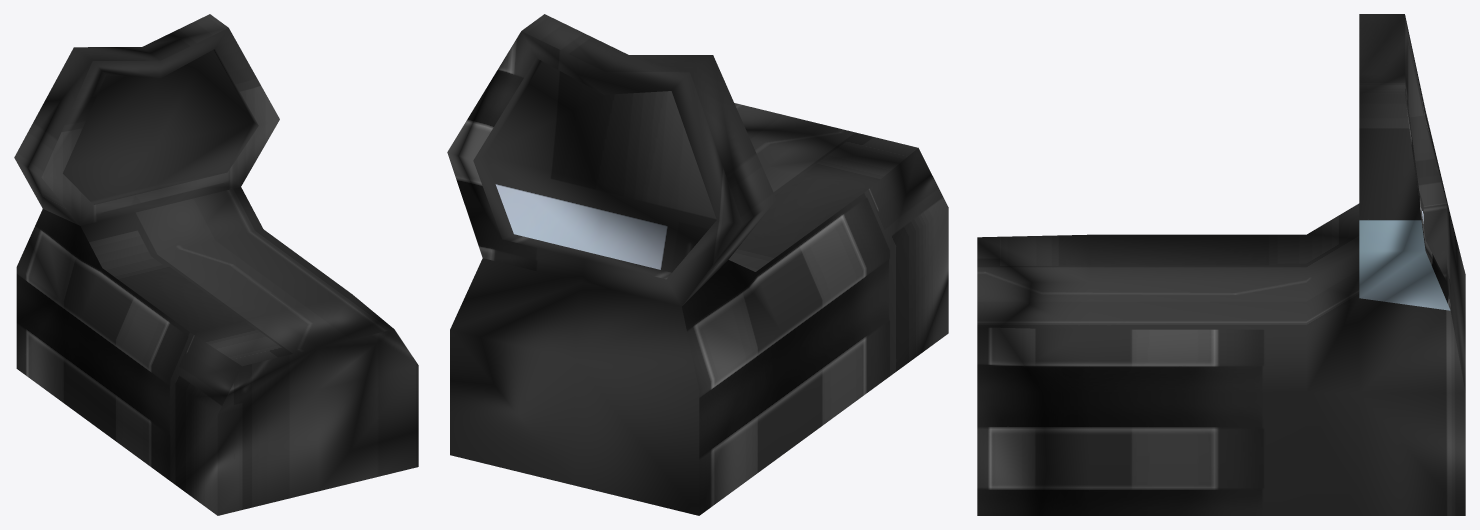
Rendered from Reddot_small.fbx.
3 views of the same model, side by side, from view 1: azimuth 30°, elevation 25°; view 2: azimuth 150°, elevation 25°; view 3: azimuth 270°, elevation 25° (orthographic). The views are drawn at different scales.
Visible parts, largest first — view 1: Reddot_small; view 2: Reddot_small; view 3: Reddot_small.
Boxes of the visible parts, x1,y1,x2,y2 form: Reddot_small: (14, 14, 418, 515); Reddot_small: (447, 14, 948, 515); Reddot_small: (977, 14, 1465, 515).
Size of the model in its own units: 0.0151 by 0.022 by 0.02.
